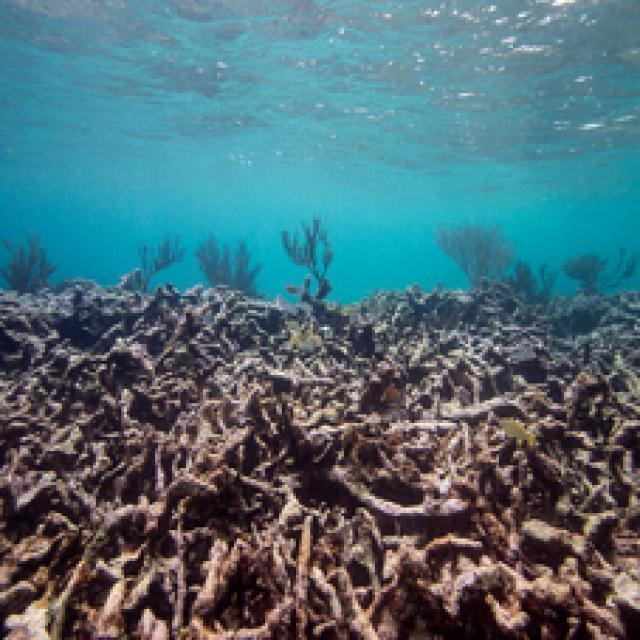Dead Coral: (135, 329, 388, 551), (355, 368, 564, 591), (0, 269, 287, 407), (6, 425, 190, 640), (164, 512, 452, 640)
